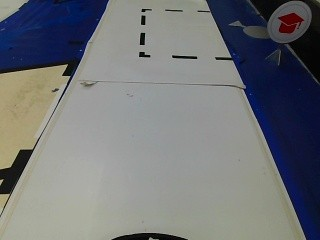school: (265, 2, 310, 44)
